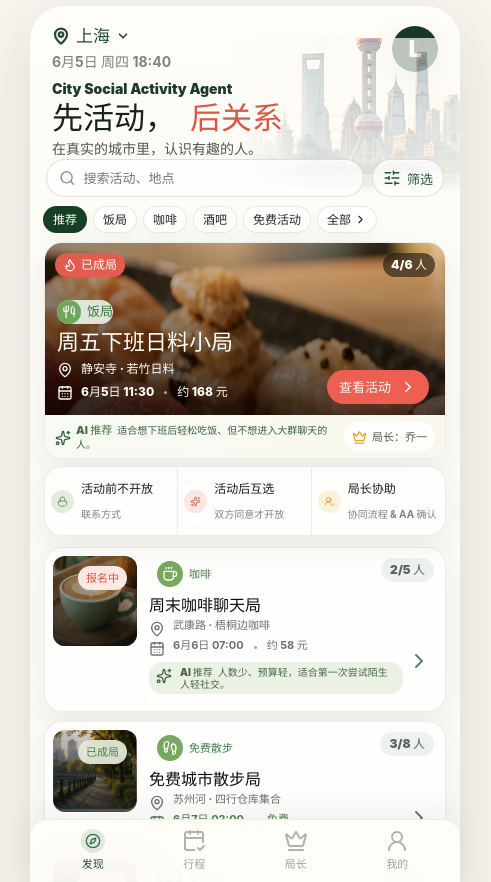
Scenario: App signup flow › shows ordinary participant settlement confirmation for paid activities
Click the button with aria-label "查看 周五下班日料小局". click: (378, 387)
box: x1=327 y1=370 x2=429 y2=404
(page scrolled)
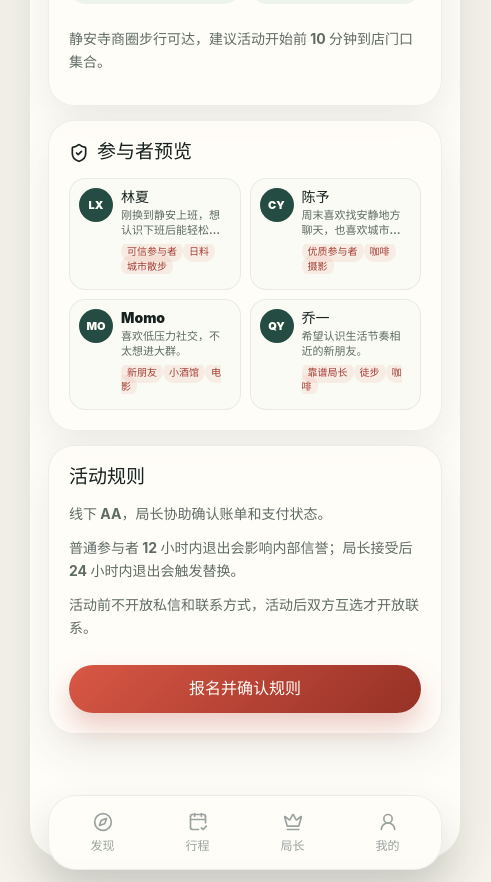
Click the button "报名并确认规则". click: (245, 689)
box: x1=69 y1=665 x2=421 y2=713
(page scrolled)
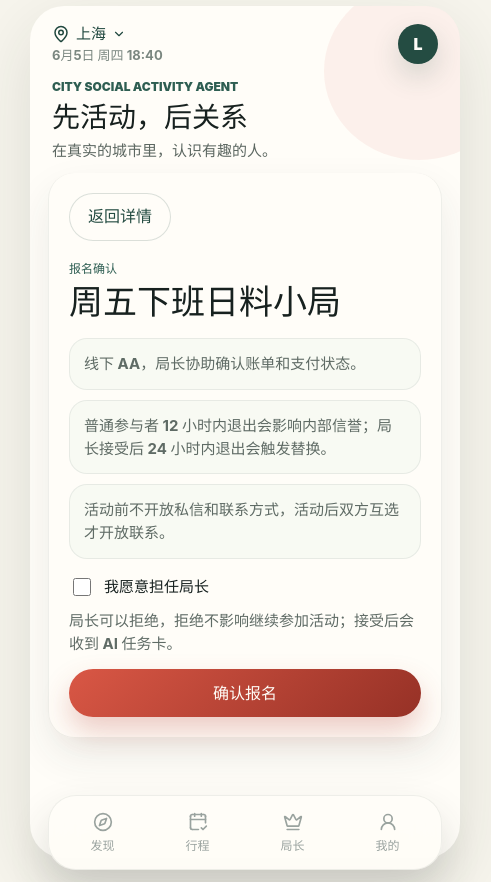
Click the button "确认报名". click: (245, 693)
box: x1=69 y1=669 x2=421 y2=717
(page scrolled)
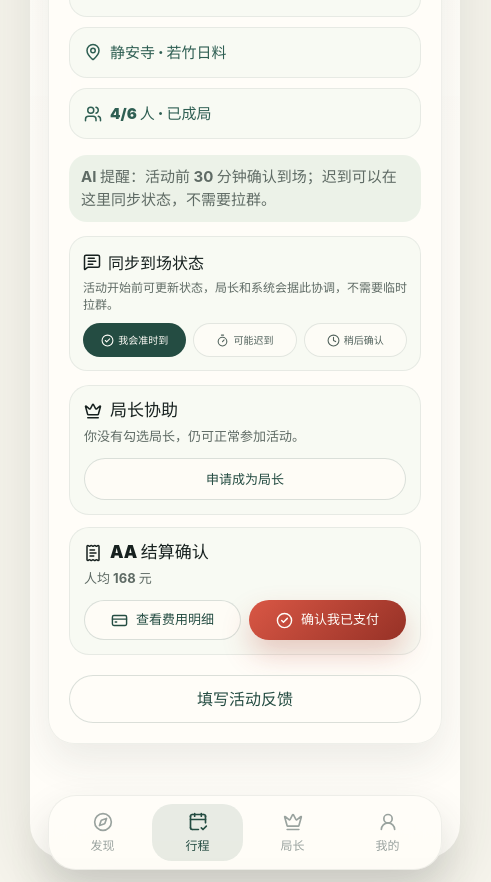
Expected: the button "查看费用明细" is shown, x1=84 y1=600 x2=241 y2=640
Expected: the button "确认我已支付" is shown
Click the button "确认我已支付". click: (328, 620)
box: x1=249 y1=600 x2=406 y2=640
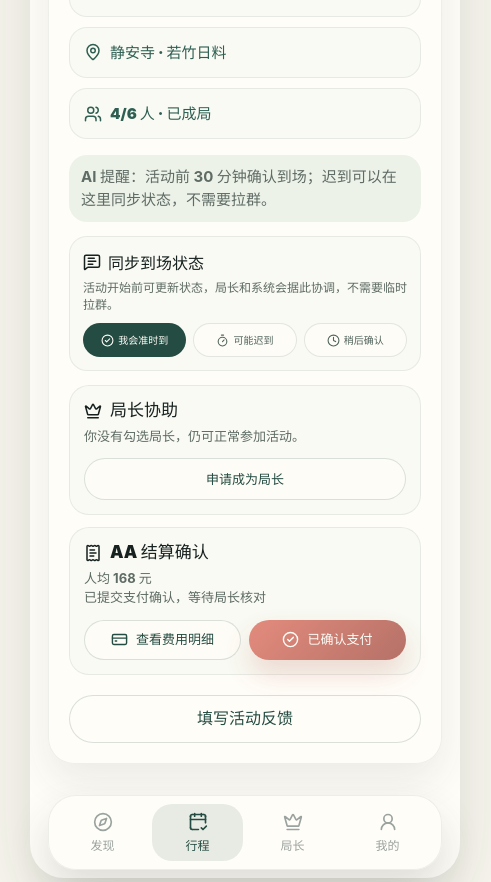
Expected: the text "已提交支付确认，等待局长核对" is shown, x1=84 y1=589 x2=266 y2=605
